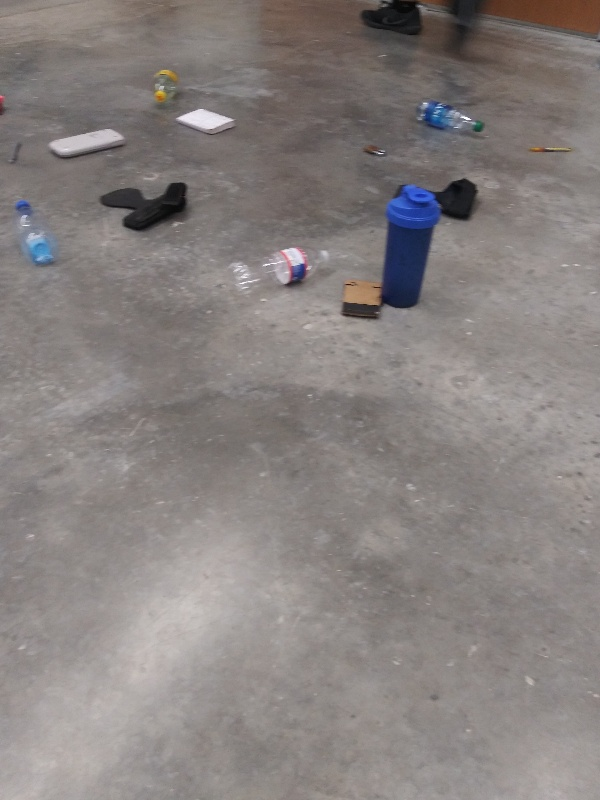bottle: (224, 244, 334, 299), (13, 197, 62, 268), (411, 97, 486, 136), (149, 63, 182, 103)
